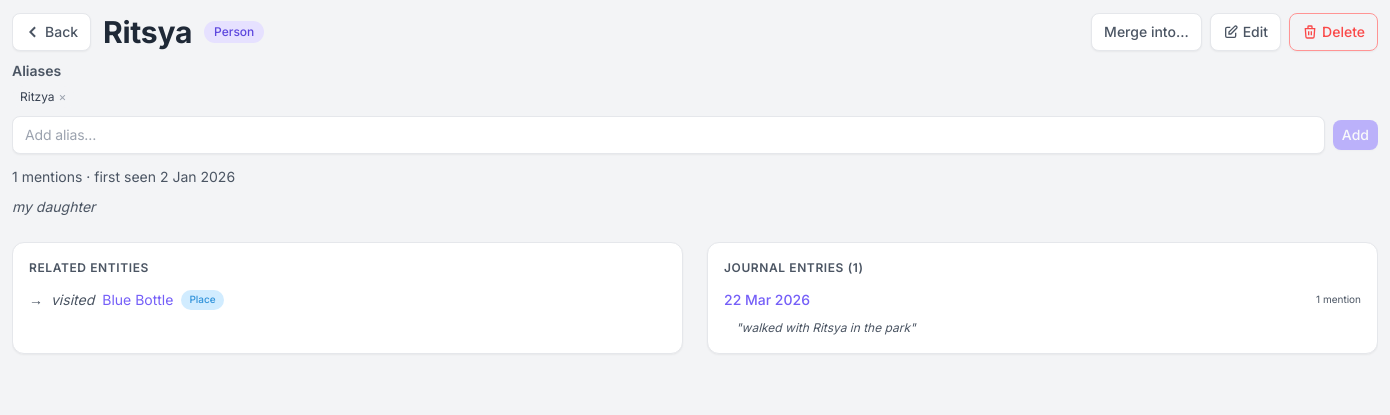
EntityDetailView › alias editing › renders an inline error when the add fails with a non-409
This screenshot has width=1390, height=415.
Type "Rits" into the field with test id "entity-alias-input" at (668, 135), box [12, 116, 1325, 154]
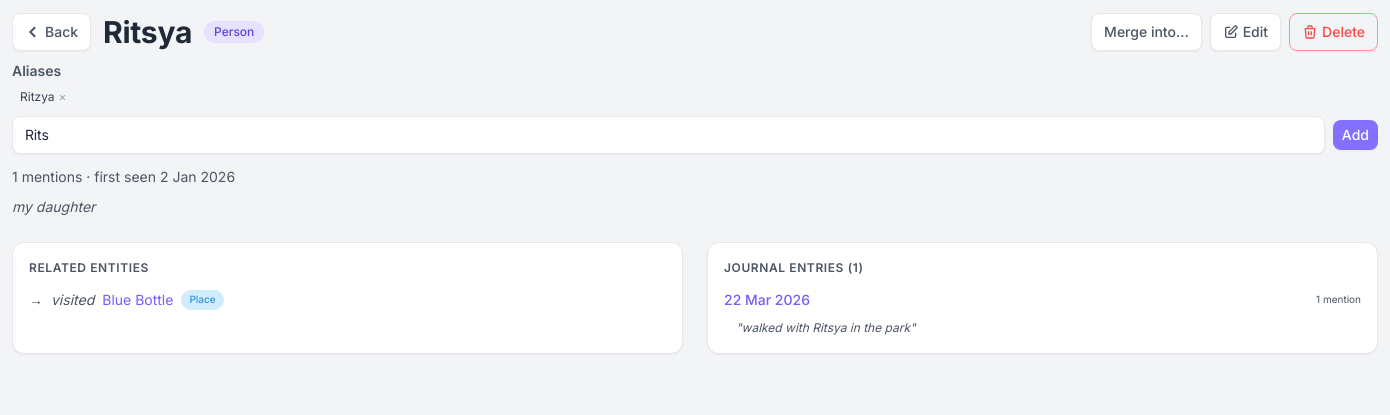
Submit the form with test id "entity-alias-form", box [12, 116, 1378, 154]
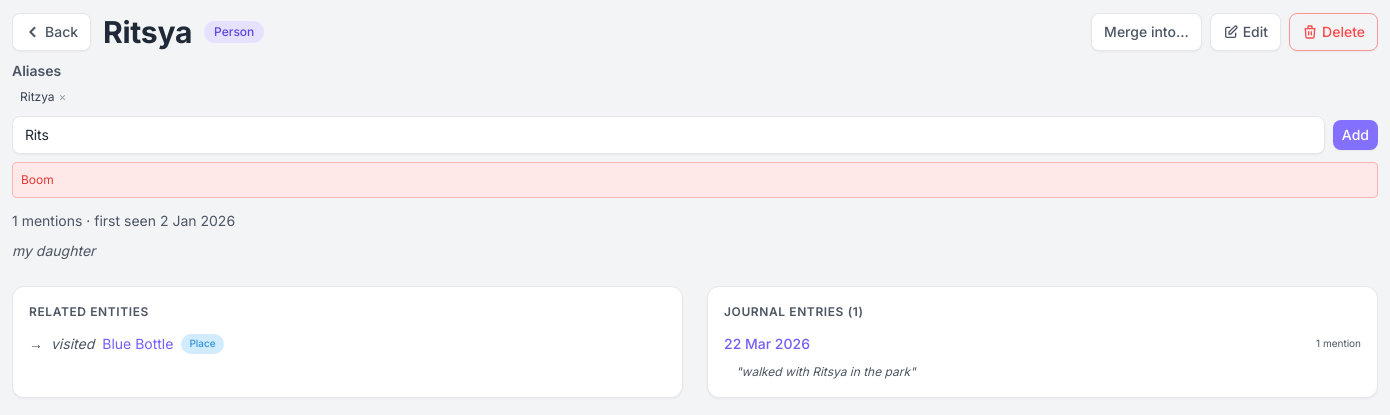
Check: the text "Boom" is shown, box [12, 162, 1378, 198]
Check: the text with test id "entity-alias-error" reads "Boom", box [21, 172, 54, 187]
